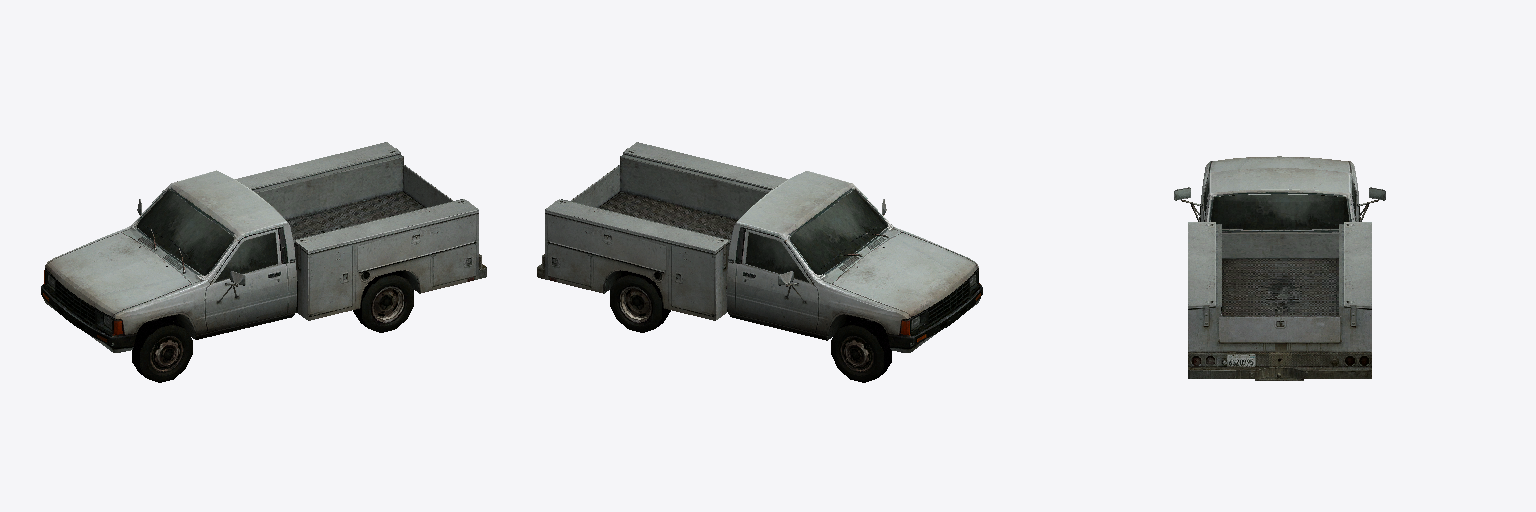
3 renders of one model, left to right at view 1: azimuth 30°, elevation 25°; view 2: azimuth 150°, elevation 25°; view 3: azimuth 270°, elevation 25°, orthographic.
Parts seen in each view (by area): view 1: (null); view 2: (null); view 3: (null).
Part boxes in pixels (x1,y1,x2,y2): (null): (41, 142, 486, 382); (null): (537, 142, 982, 382); (null): (1174, 156, 1385, 380).
Bounding box in the file's own units: 209 × 69.76 × 103.
Materials: 1 (1 with a texture image).